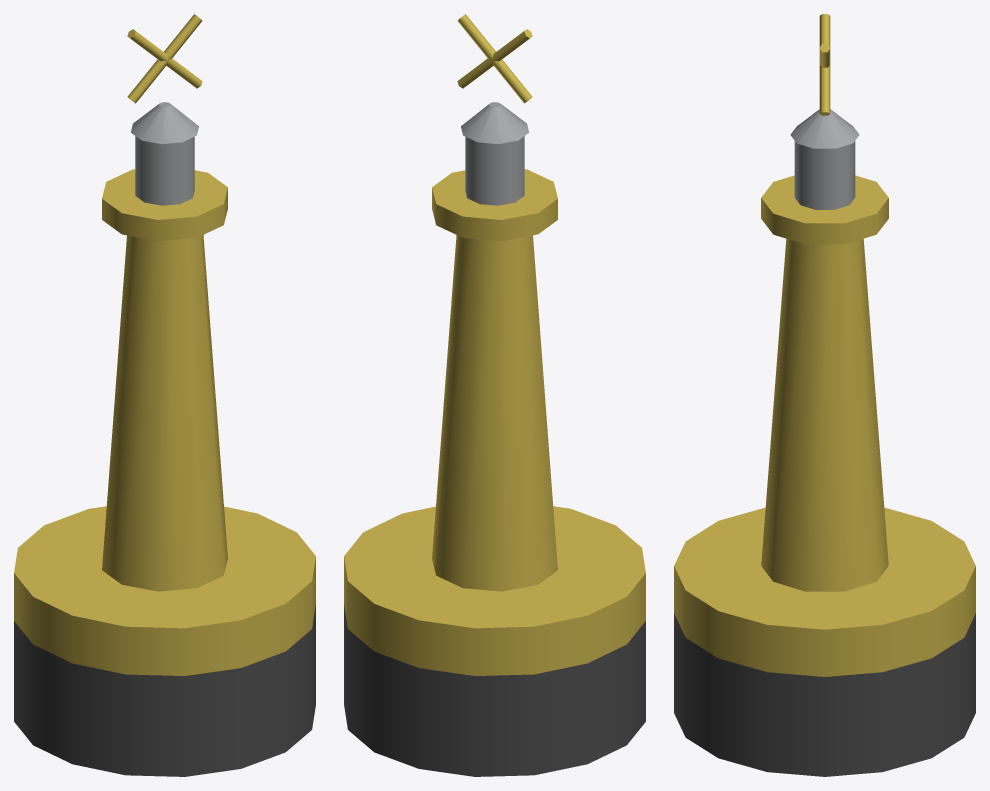
File: buoy-pillar-yellow.glb
3 views of the same model, side by side, from view 1: azimuth 30°, elevation 25°; view 2: azimuth 150°, elevation 25°; view 3: azimuth 270°, elevation 25° (orthographic).
Visible parts, largest first — view 1: buoy-pillar-yellow; view 2: buoy-pillar-yellow; view 3: buoy-pillar-yellow.
Boxes of the visible parts, box(x1,y1,x2,y2) form: buoy-pillar-yellow: box(14, 14, 315, 776); buoy-pillar-yellow: box(344, 14, 645, 776); buoy-pillar-yellow: box(674, 14, 975, 776).
Bounding box in the file's own units: 2.6 × 6.51 × 2.6.
